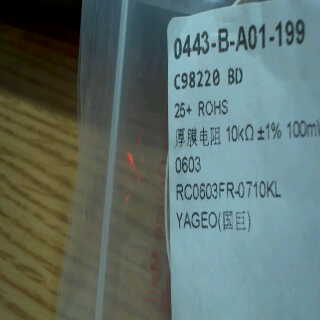10kR: (223, 121, 254, 148)
